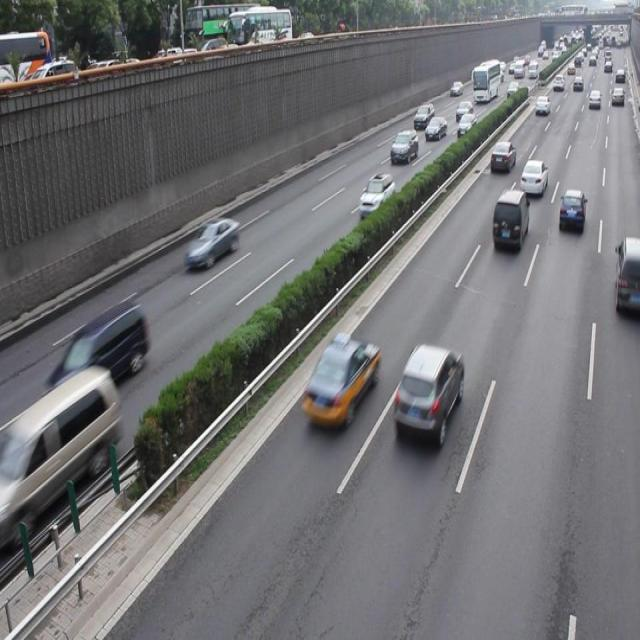car: (391, 342, 464, 447), (300, 335, 378, 429), (184, 216, 238, 271), (611, 236, 640, 316), (359, 172, 393, 216), (556, 187, 584, 236), (518, 158, 547, 196), (390, 127, 418, 163), (488, 140, 515, 174)
truck: (8, 364, 118, 526), (42, 299, 148, 403), (490, 188, 527, 252)
